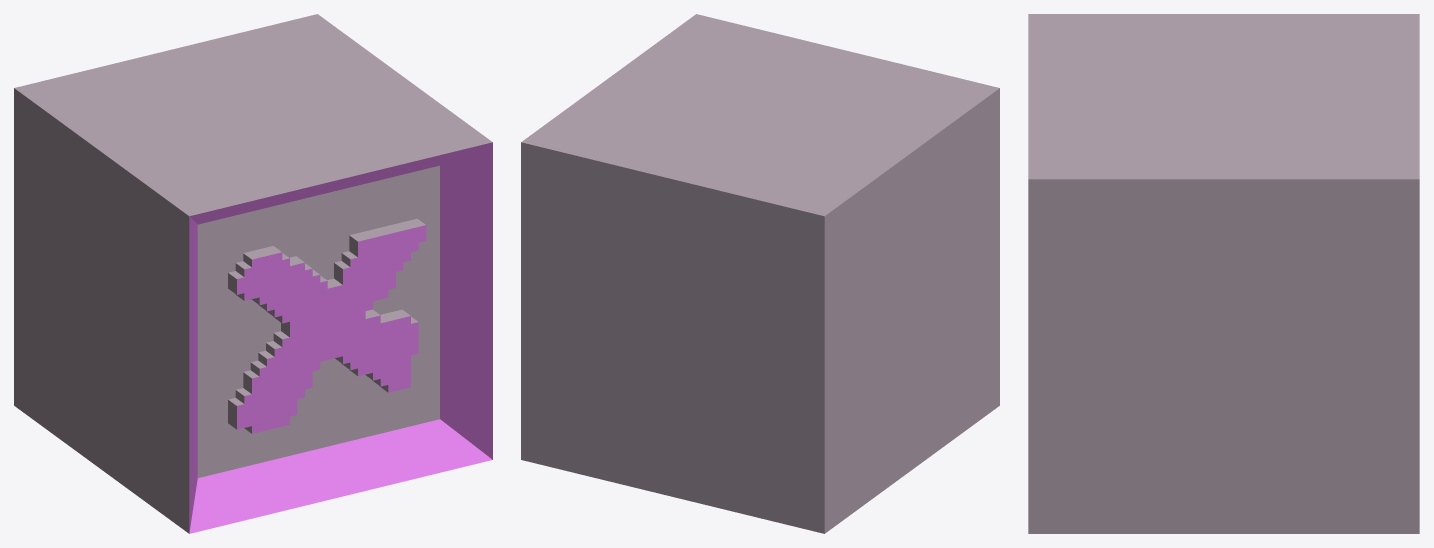
The model's file is BlockX.fbx.
The picture shows the model from 3 angles, left to right: view 1: azimuth 30°, elevation 25°; view 2: azimuth 150°, elevation 25°; view 3: azimuth 270°, elevation 25°; orthographic projection. The views are drawn at different scales.
Visible parts, largest first — view 1: Cube; view 2: Cube; view 3: Cube.
Part boxes in pixels (x1,y1,x2,y2): Cube: (14,14,492,533); Cube: (521,14,999,533); Cube: (1028,14,1419,533).
Size of the model in its own units: 2000 by 2000 by 2000.
